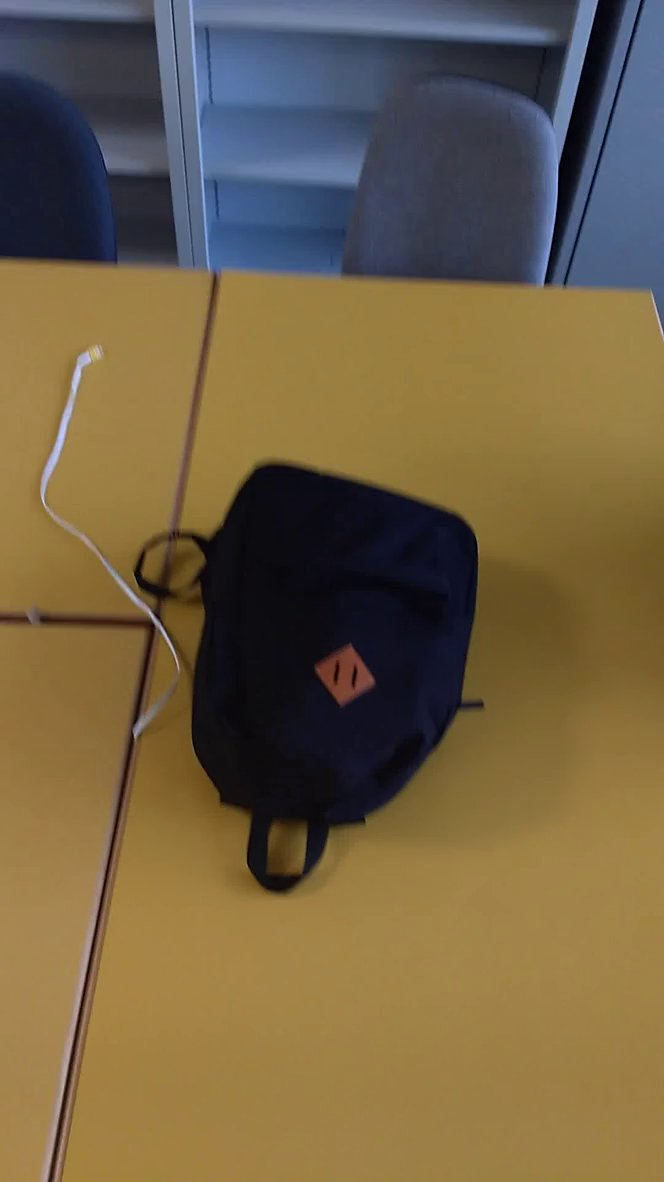bag: (129, 456, 500, 903)
chair: (327, 63, 573, 340)
